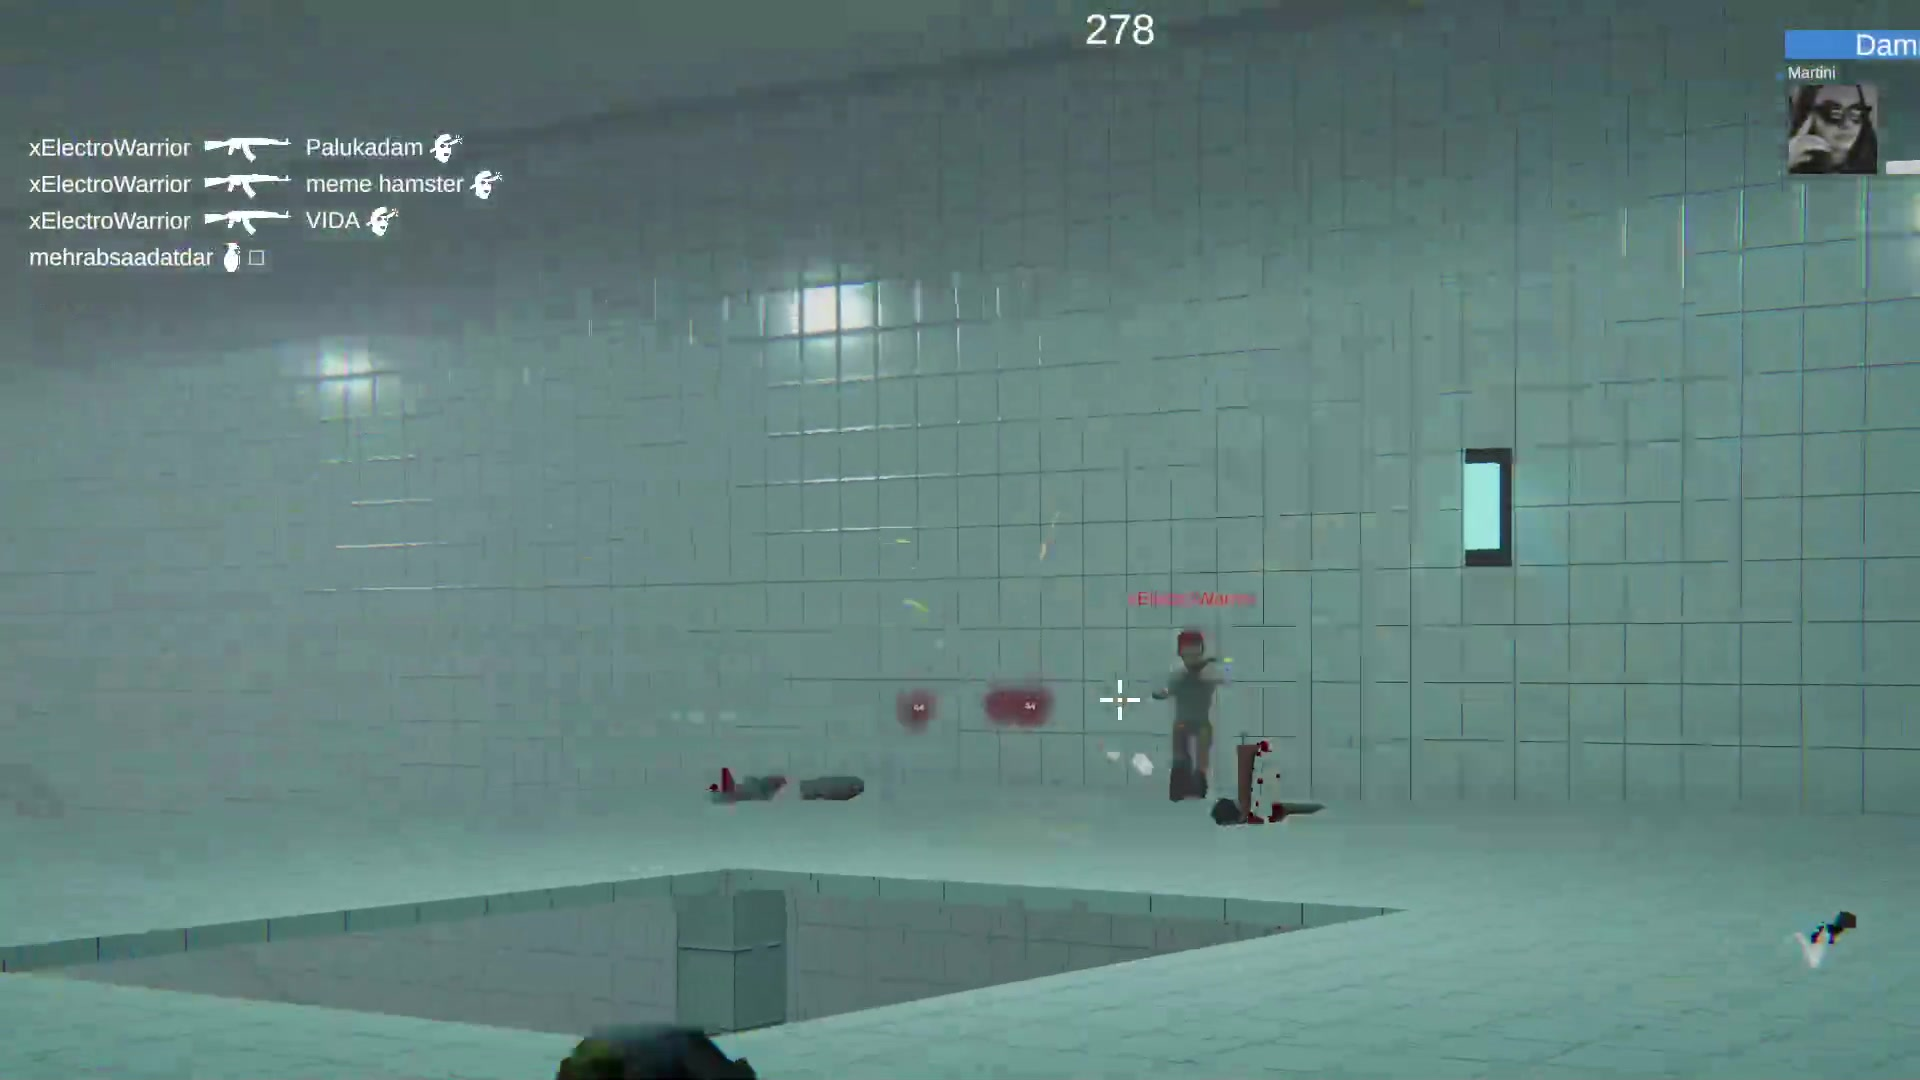human: (1130, 618, 1254, 815)
